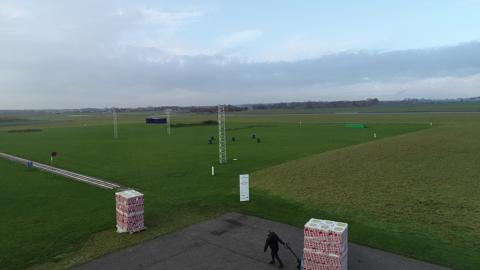RockwoolPallet: (112, 189, 145, 233)
